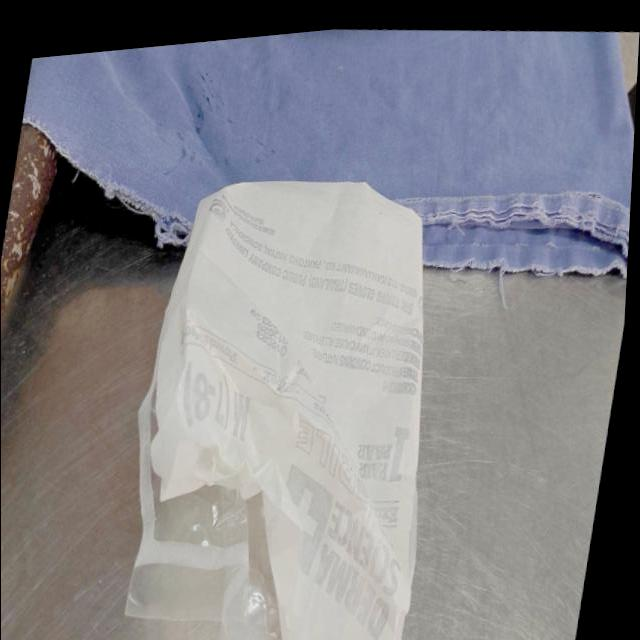General: (1, 26, 636, 639)
Infectious: (124, 179, 426, 639)
Sharps: (496, 265, 509, 309)
